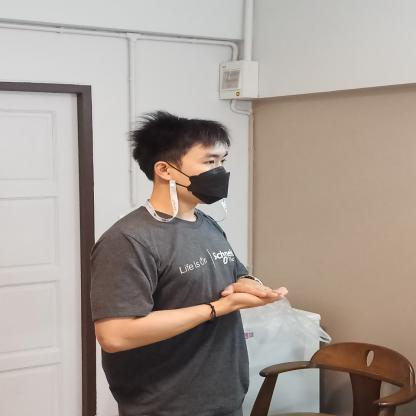Love: (210, 273, 298, 325)
